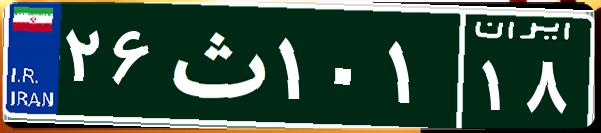0: (330, 28, 385, 110)
1: (385, 28, 445, 110), (273, 28, 330, 110), (475, 38, 525, 113)
2: (57, 26, 110, 107)
6: (110, 28, 158, 105)
8: (525, 38, 570, 115)
ث: (158, 15, 273, 115)
